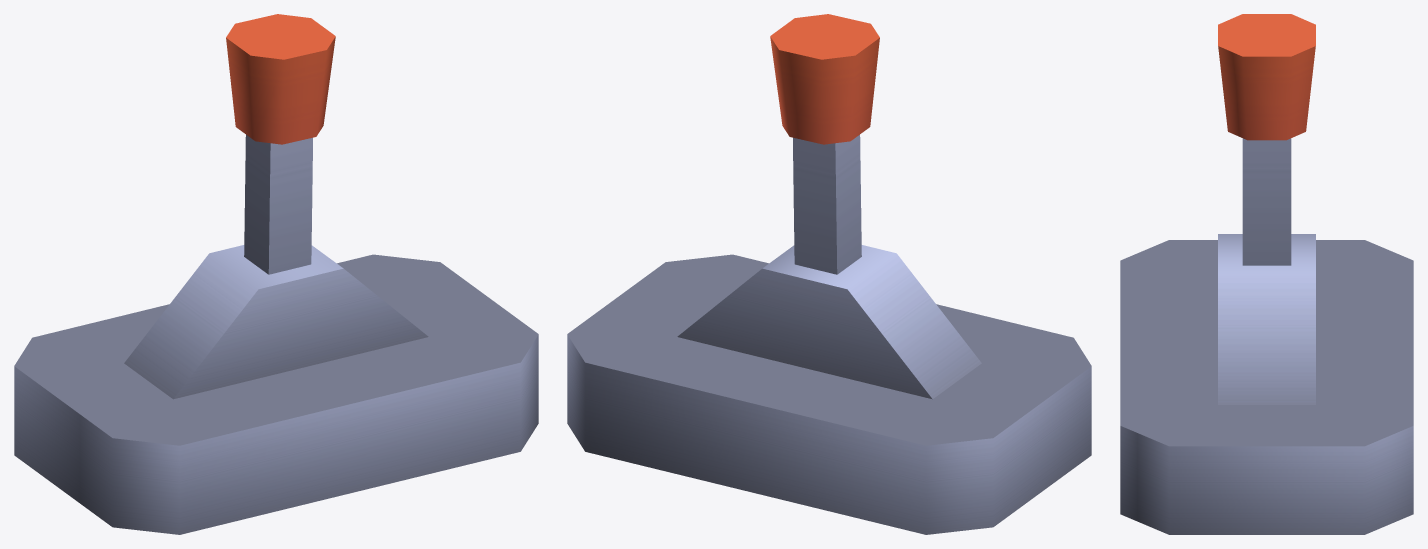
Rendered from lever-3stage.fbx.
The picture shows the model from 3 angles, left to right: view 1: azimuth 30°, elevation 25°; view 2: azimuth 150°, elevation 25°; view 3: azimuth 270°, elevation 25°; orthographic projection.
Visible parts, largest first — view 1: lever-single, handle; view 2: lever-single, handle; view 3: lever-single, handle.
Boxes of the visible parts, x1,y1,x2,y2 form: lever-single: (14, 245, 538, 534); handle: (226, 14, 335, 274); lever-single: (567, 245, 1091, 534); handle: (770, 14, 879, 274); lever-single: (1120, 234, 1413, 534); handle: (1218, 14, 1315, 265).
Bounding box in the file's own units: 50 × 45.07 × 30.
